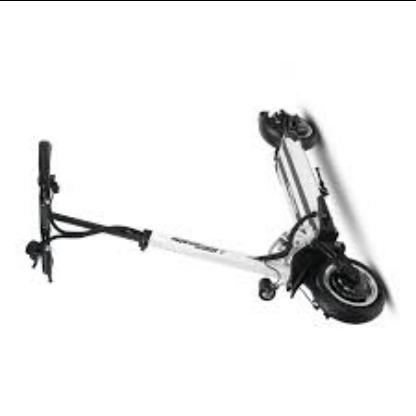bike: (23, 108, 390, 327), (169, 110, 389, 325), (252, 109, 388, 326)
